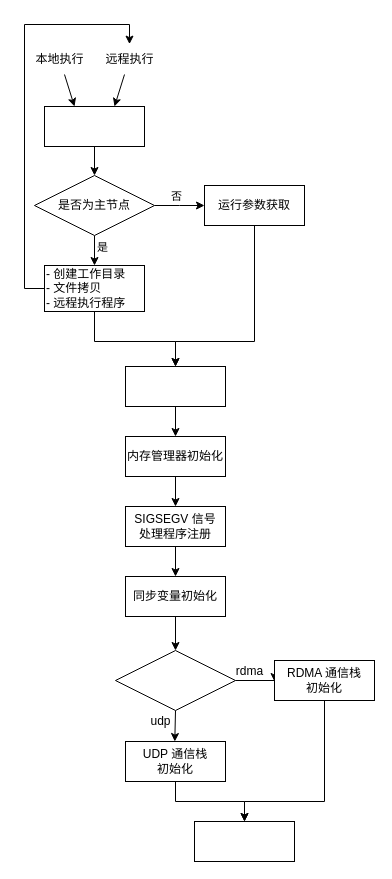
This 392x879 diagram has some shape labels left out. Here are the shapes that lost their labels. From the top down, the box of each, then its label:
(44, 106, 144, 146): 系统配置
(124, 366, 226, 406): 启用日志
(114, 650, 236, 710): 通信栈选择
(194, 820, 294, 862): 消息缓冲初始化
